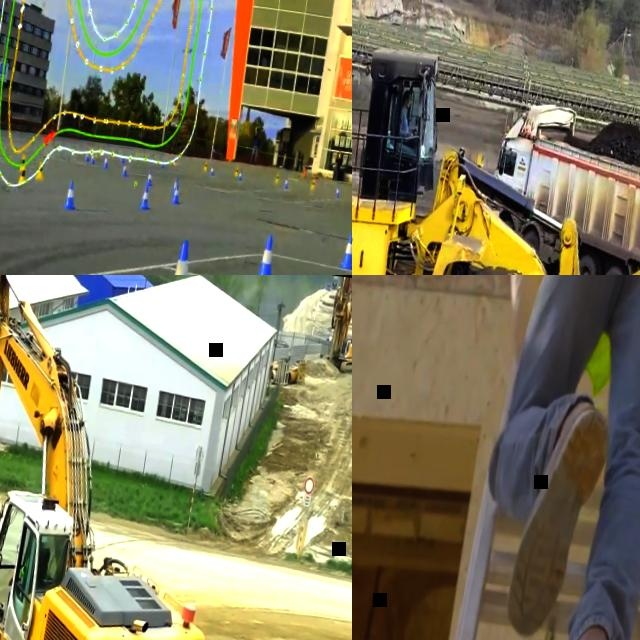NO-Hardhat: (403, 89, 412, 99)
NO-Mask: (405, 101, 411, 109)
NO-Safety Vest: (398, 113, 410, 135)
Person: (437, 275, 640, 640), (395, 89, 424, 146), (16, 543, 37, 599)
Safety Cone: (159, 236, 201, 275), (251, 231, 280, 275), (61, 179, 80, 213), (339, 231, 352, 272), (139, 185, 153, 209), (34, 159, 47, 182), (18, 163, 29, 186), (171, 185, 182, 207), (171, 175, 181, 197), (145, 169, 155, 189), (18, 153, 28, 172), (334, 186, 342, 200), (123, 163, 129, 177), (89, 153, 96, 165), (83, 151, 90, 163), (283, 177, 289, 191), (103, 156, 109, 168), (311, 178, 317, 190), (274, 174, 280, 186), (234, 166, 240, 178), (203, 162, 208, 174), (238, 170, 243, 181), (211, 165, 216, 175)
Safety Vest: (584, 275, 640, 405), (20, 557, 29, 578)
machinery: (0, 275, 255, 640), (352, 19, 640, 275), (480, 89, 640, 275), (324, 276, 352, 375)
